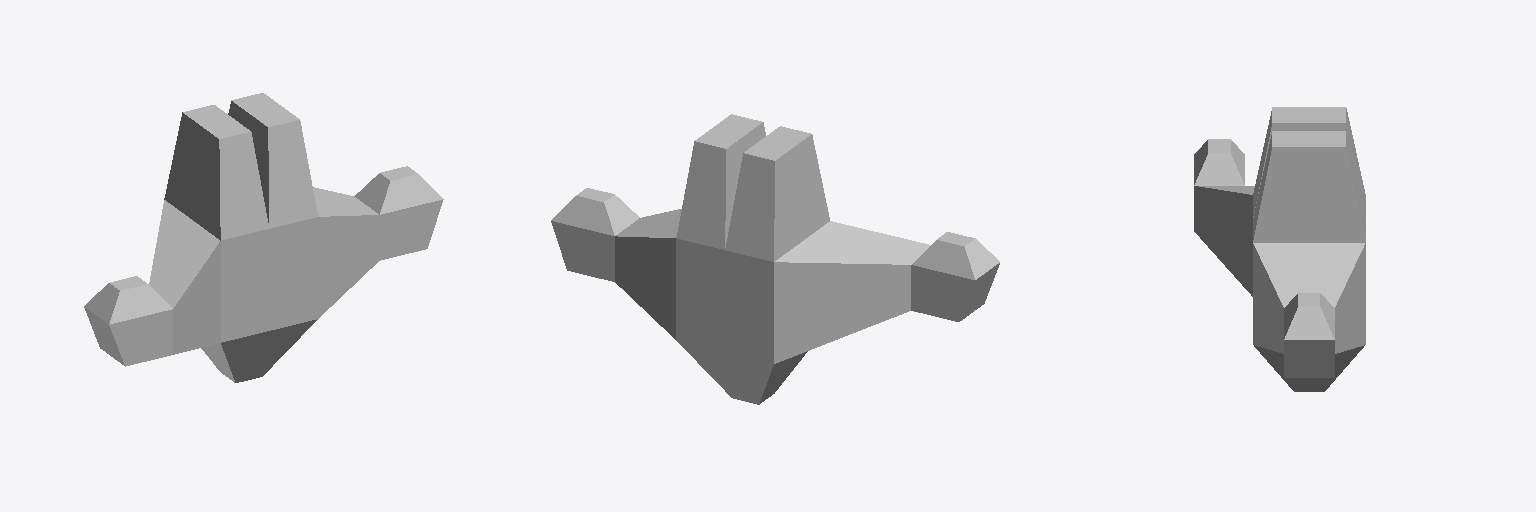
File: idle_01.obj
The picture shows the model from 3 angles: view 1: azimuth 30°, elevation 25°; view 2: azimuth 150°, elevation 25°; view 3: azimuth 270°, elevation 25°; orthographic projection.
Visible parts, largest first — view 1: Cube; view 2: Cube; view 3: Cube.
Part boxes in pixels (x1,y1,x2,y2): Cube: (84, 93, 443, 382); Cube: (551, 114, 999, 404); Cube: (1194, 107, 1365, 391).
Size of the model in its own units: 7.77 by 5.06 by 3.04.